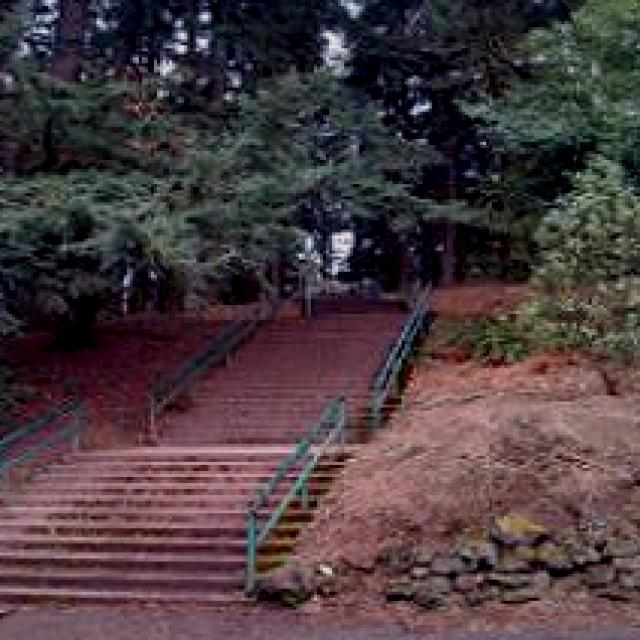upstair: (1, 412, 309, 611)
